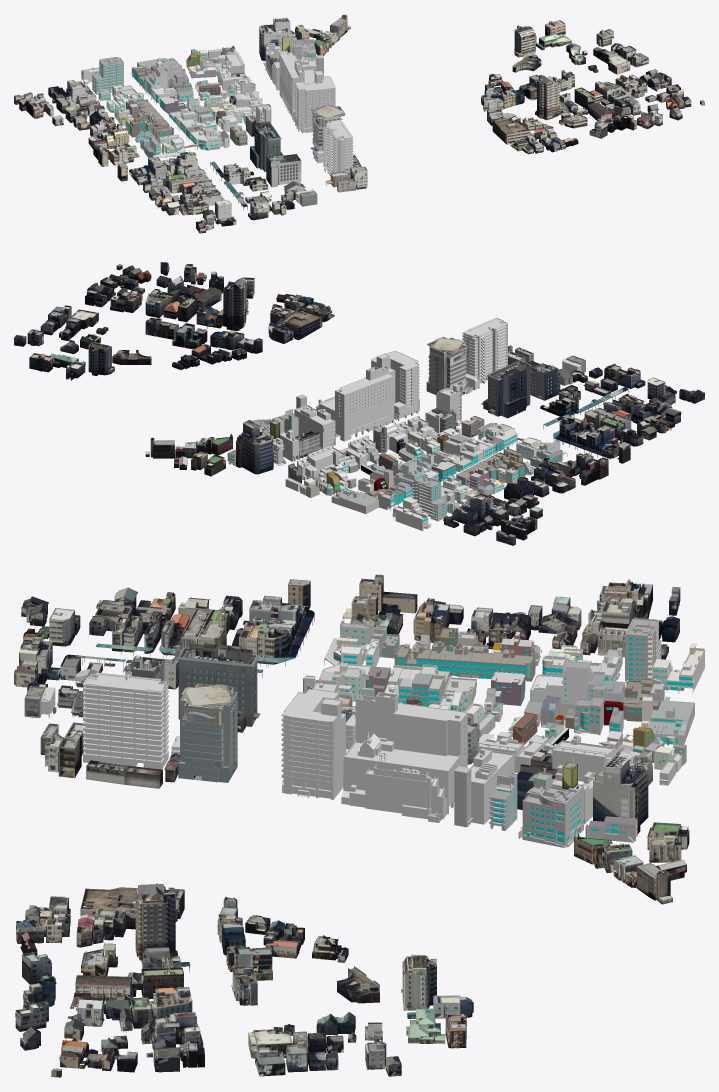
Rendered from lod3-station-5-1-packed.glb.
The picture shows the model from 3 angles, top to bottom: view 1: azimuth 30°, elevation 25°; view 2: azimuth 150°, elevation 25°; view 3: azimuth 270°, elevation 25°; orthographic projection. The views are drawn at different scales.
Bounding box in the file's own units: 576 × 56.54 × 358.
Materials: 55 (53 with a texture image).
